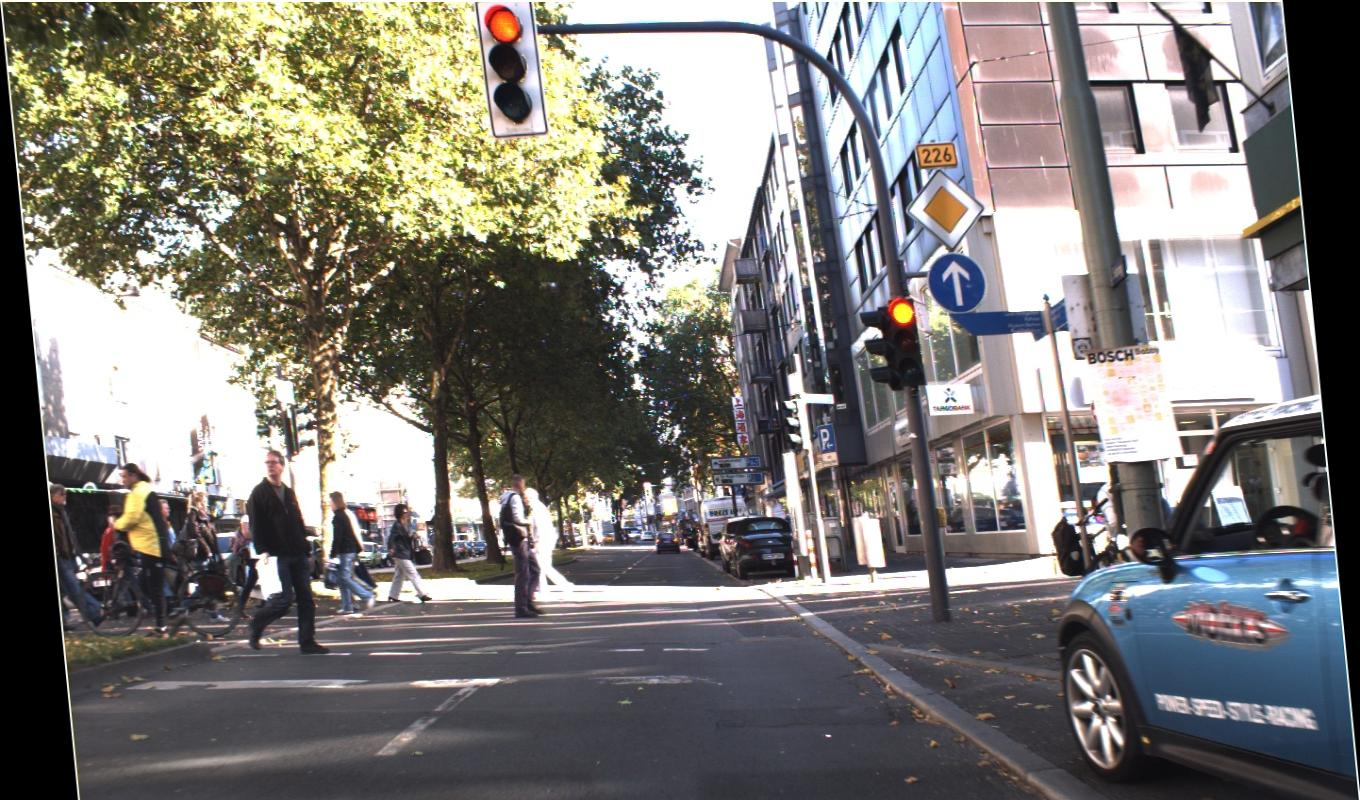priority road: (900, 167, 987, 313)
